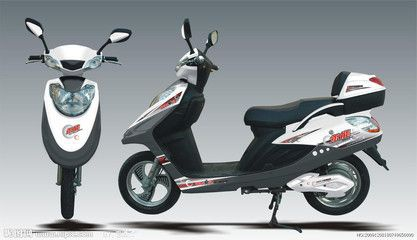non-vehicle: (119, 14, 390, 219), (20, 17, 129, 225)
